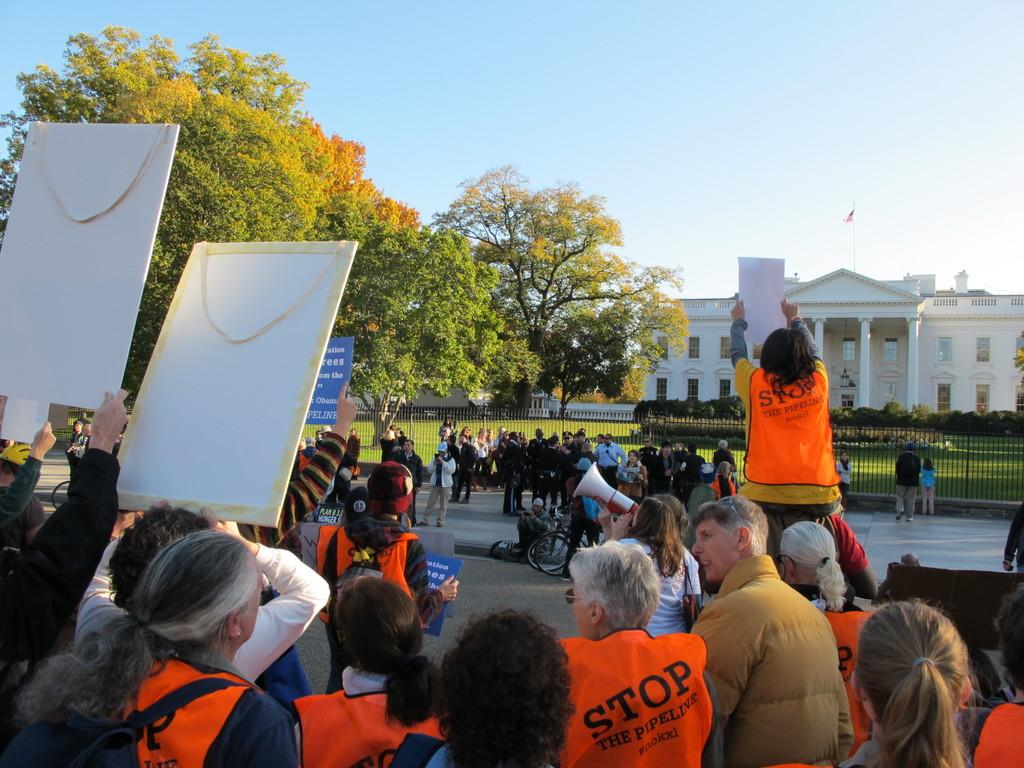Sem Máscara: (686, 517, 738, 577), (569, 576, 592, 633)
